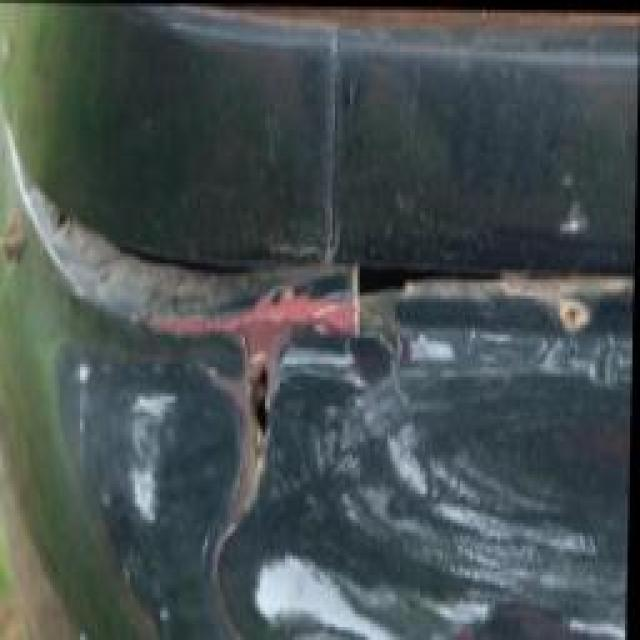Bumper: (2, 188, 636, 640)
